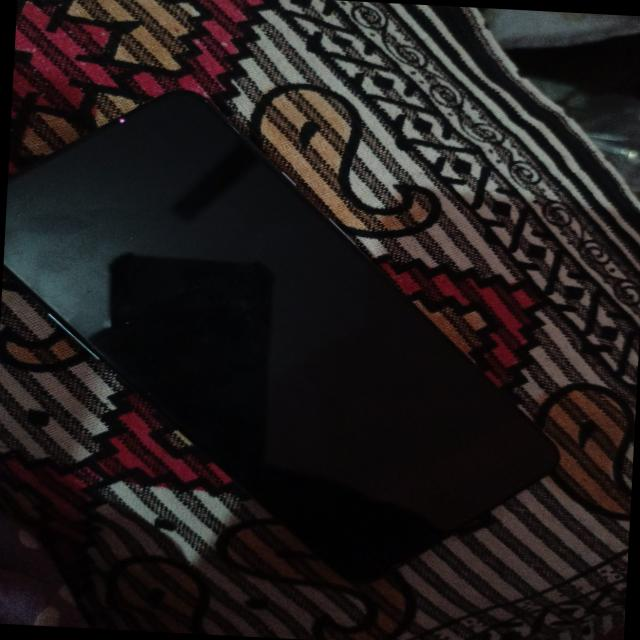mobile_phone: (2, 66, 591, 620)
